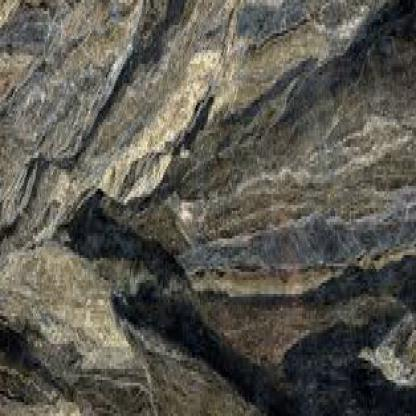Metamorphic_Quartize: (1, 0, 416, 413)
